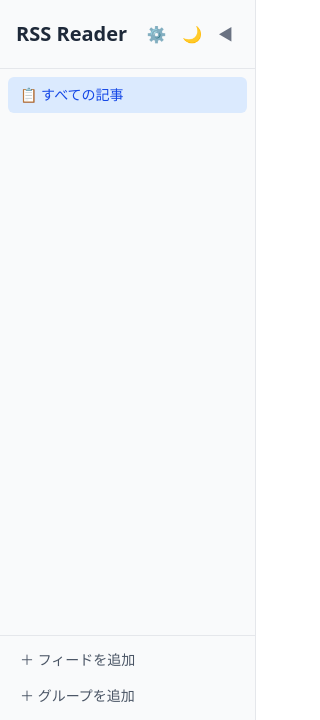
Test case: Sidebar（特性テスト） › フィード追加失敗: レスポンスの { error } メッセージを表示する
Click the button "＋ フィードを追加" at (128, 660), box 8,644 -> 247,676
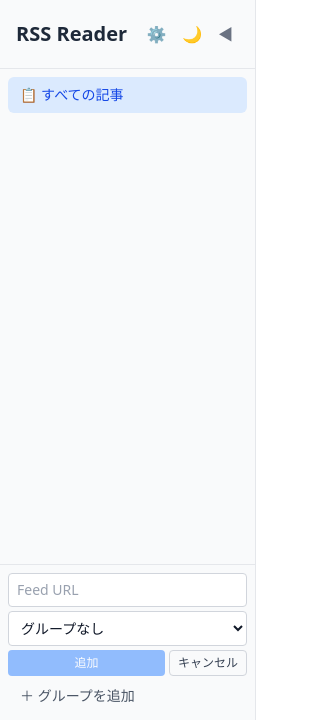
Type "https://bad.example.com" into the field with placeholder "Feed URL" at (128, 590), box 8,573 -> 247,607
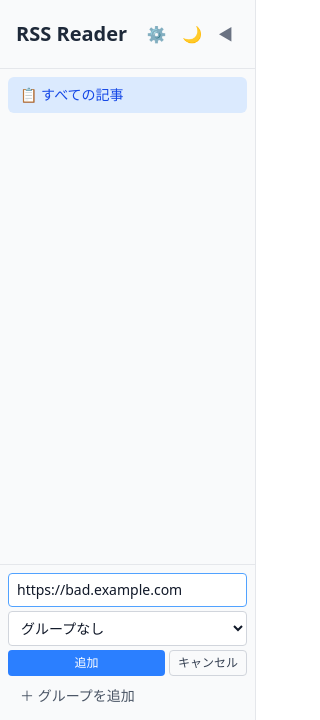
Click the button "追加" at (86, 663), box 8,650 -> 165,676
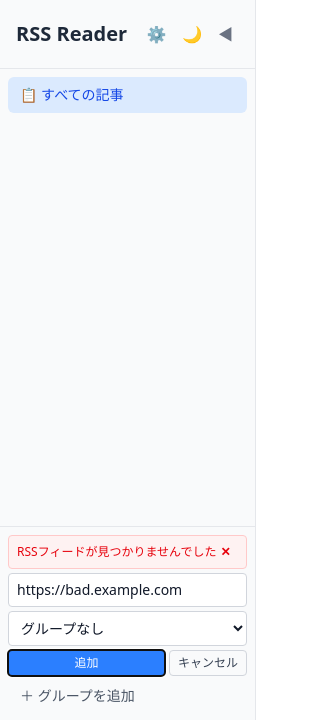
Result: the text "RSSフィードが見つかりませんでした" is shown at 17,543 -> 216,560
